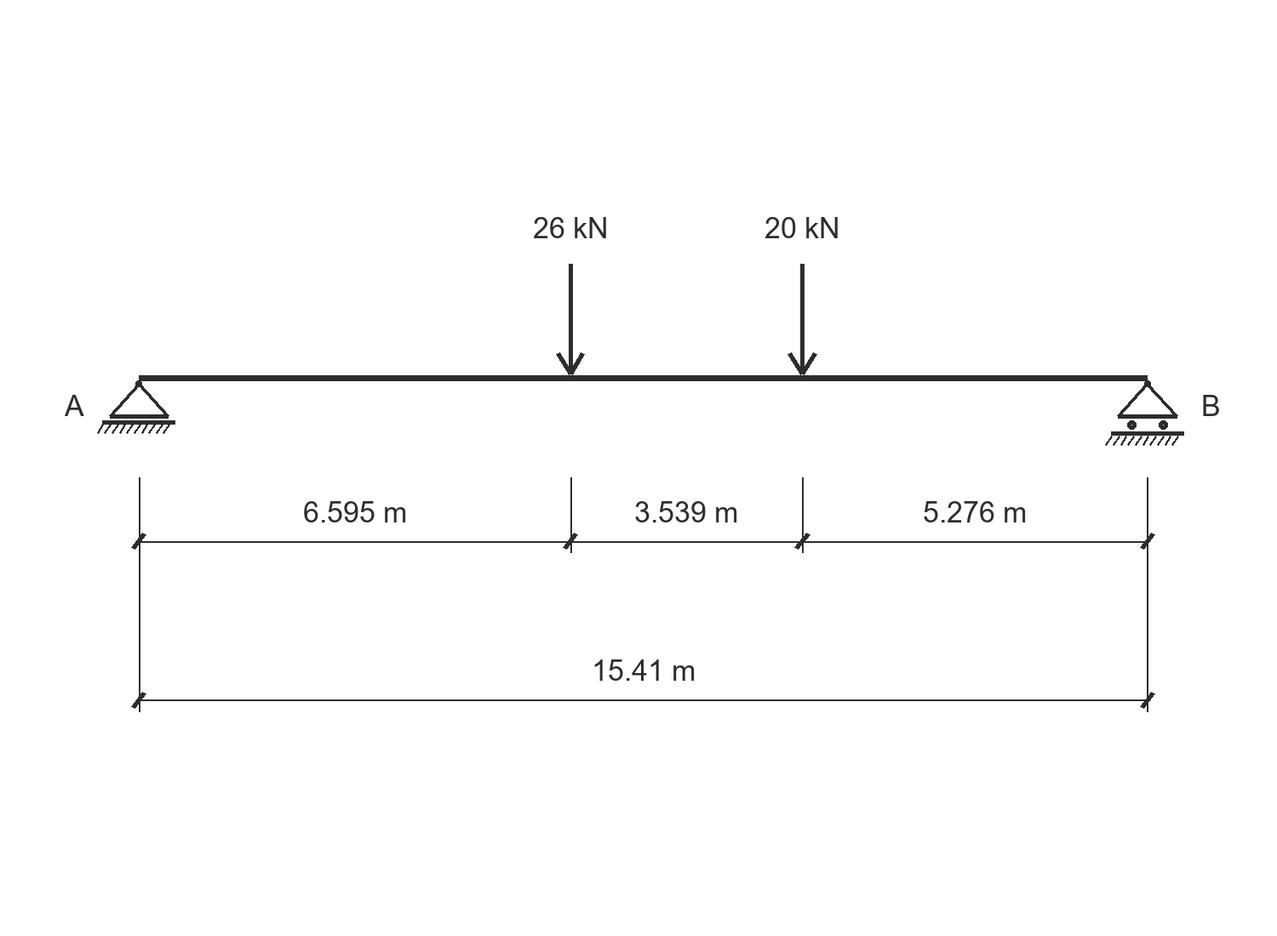pin_support: (97, 380, 175, 434)
point_load: (787, 264, 817, 375), (556, 264, 585, 375)
roller_support: (1105, 380, 1184, 446)
